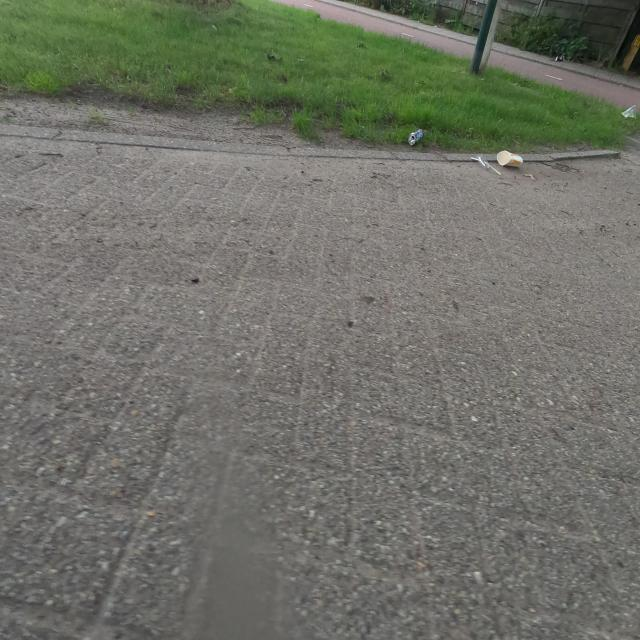Can-Metal: (407, 128, 424, 146)
Cup: (496, 150, 524, 168), (556, 55, 564, 62)
